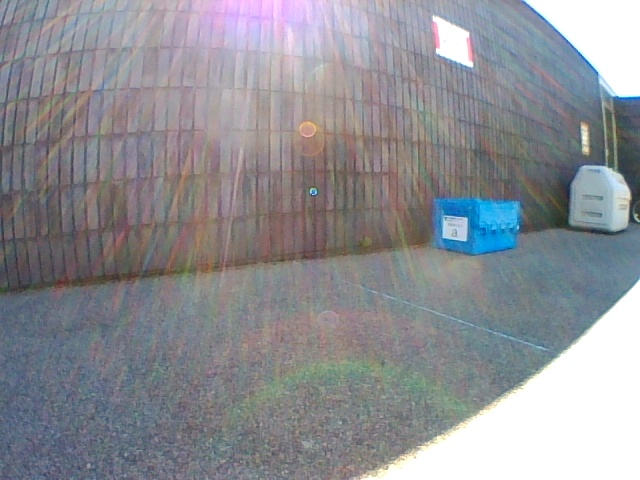blue_box: (433, 197, 520, 255)
tag_a: (444, 218, 467, 238)
